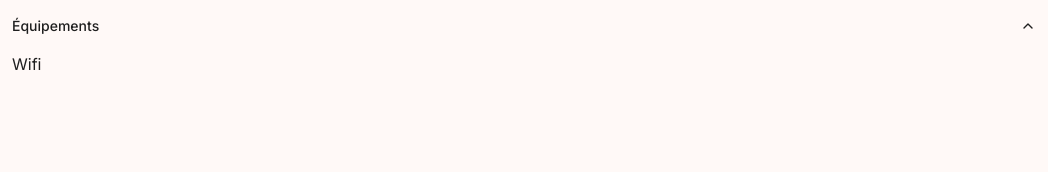
Test case: Collapse › se ferme puis se rouvre au clic
The image size is (1048, 172).
Click the button "Équipements". click: coordinates (56, 26)
box: [12,12,1036,40]
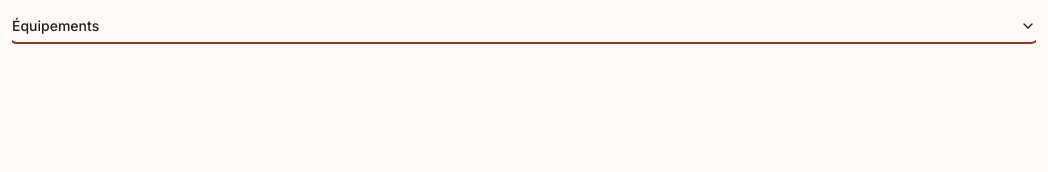
Now the button "Équipements" is collapsed
Click the button "Équipements". click: coordinates (56, 26)
box: [12,12,1036,40]
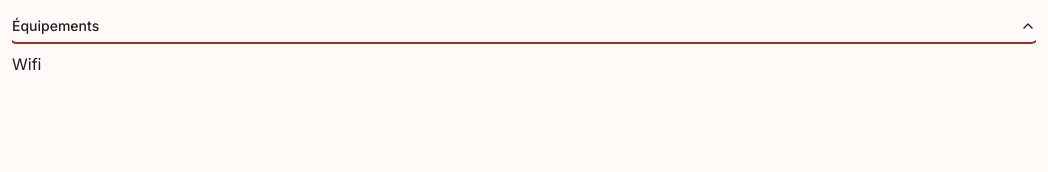
Now the button "Équipements" is expanded, box [12,12,1036,40]
